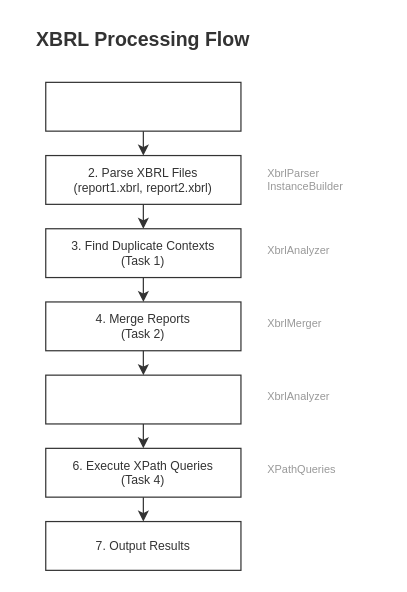
The diagram is 407 pixels wide and 592 high, and some of its shapes have lost their labels. The centre of each missing label's shape, as x and y in pixels:
"1. Load Configuration (appsettings.json)" goes at pixel 143 106.
"5. Compare Reports (Task 3)" goes at pixel 143 399.
